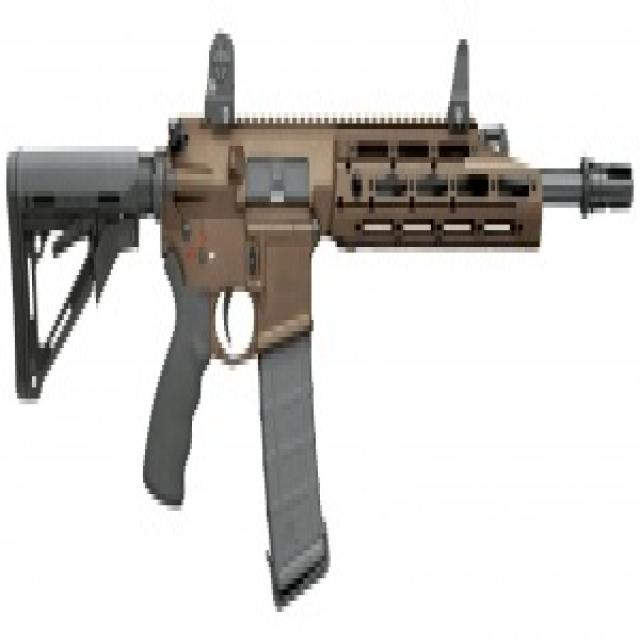rifle: (5, 28, 635, 638)
